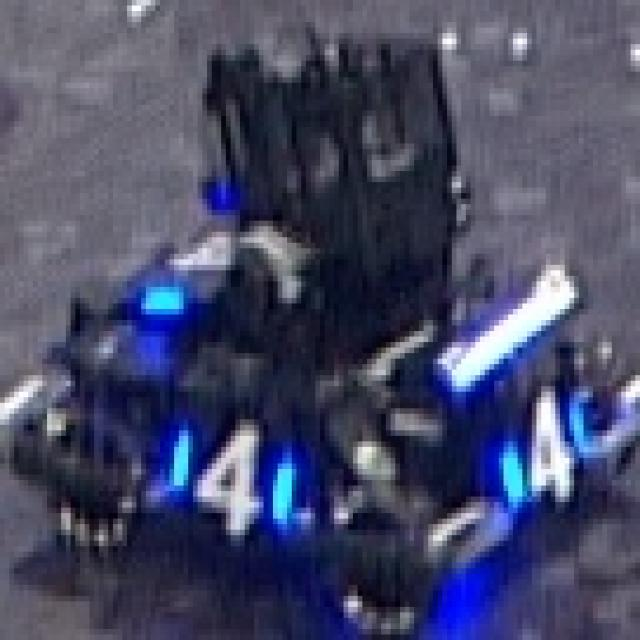B4: (165, 419, 296, 541), (494, 386, 588, 513)
